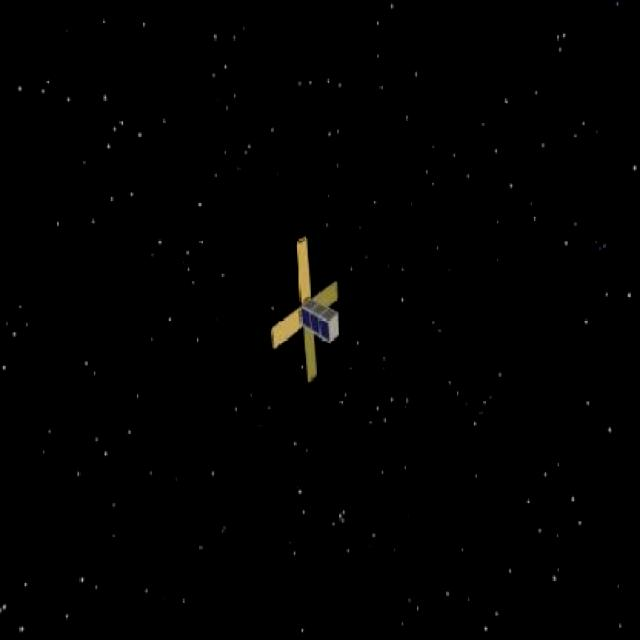medium_debris: (250, 234, 348, 390)
